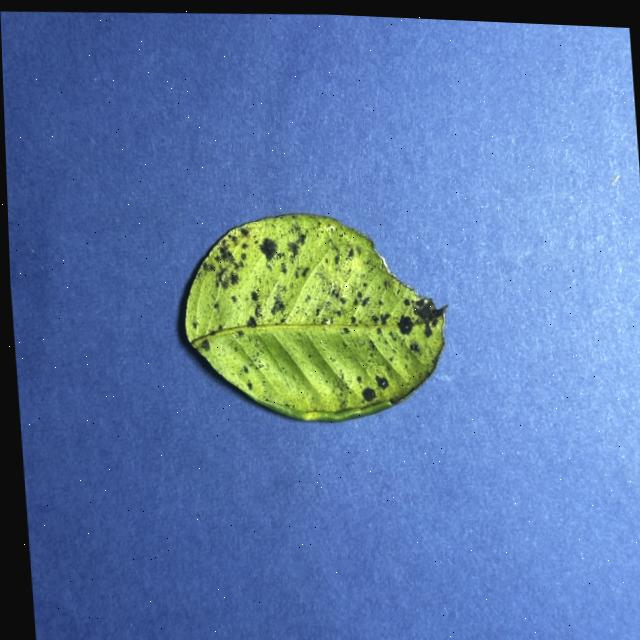sooty_mold: (185, 214, 444, 420)
